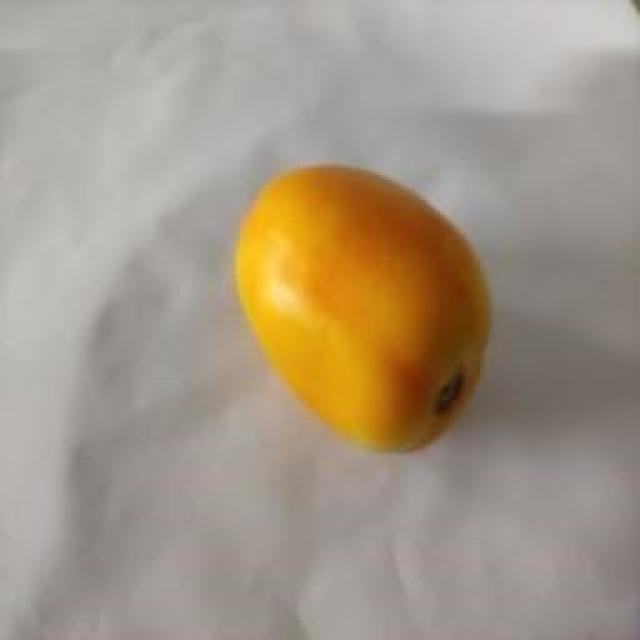unripe: (142, 175, 452, 467)
